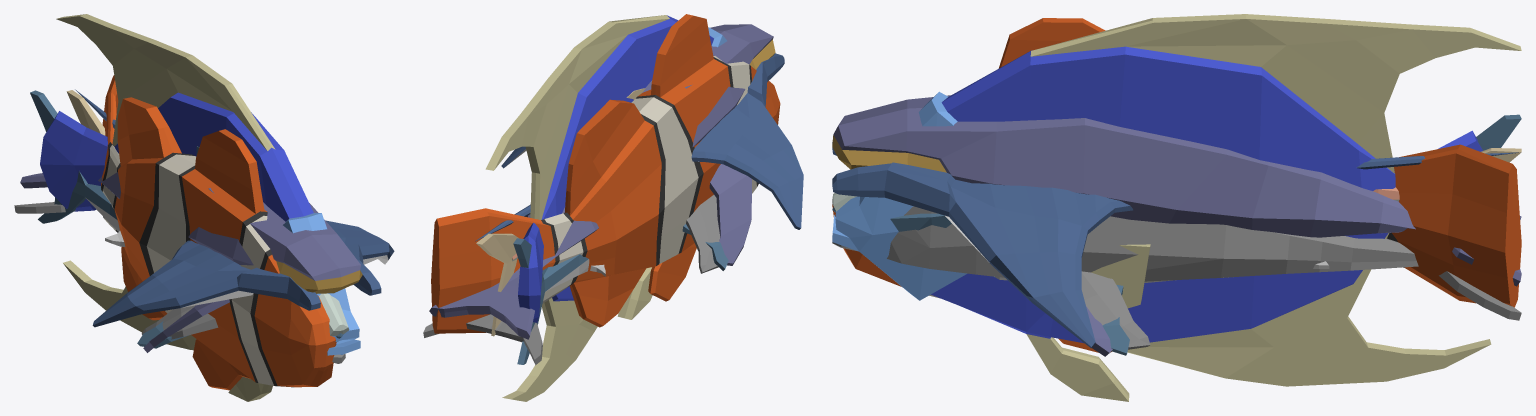
Rendered from quaternius-fish.glb.
The picture shows the model from 3 angles, left to right: view 1: azimuth 30°, elevation 25°; view 2: azimuth 150°, elevation 25°; view 3: azimuth 270°, elevation 25°; orthographic projection. The views are drawn at different scales.
Parts seen in each view (by area): view 1: fish3, fish2, manta, whale, shark, dolphin, fish1; view 2: fish3, fish2, whale, manta, dolphin, shark, fish1; view 3: fish2, whale, dolphin, manta, fish3, shark, fish1.
Boxes of the visible parts, <box> form: fish3: <box>101,75,336,390</box>; fish2: <box>40,14,360,401</box>; manta: <box>75,89,394,327</box>; whale: <box>20,172,362,352</box>; shark: <box>30,90,343,348</box>; dolphin: <box>14,202,345,363</box>; fish1: <box>66,90,349,341</box>; fish3: <box>431,14,780,333</box>; fish2: <box>485,15,726,401</box>; whale: <box>429,24,775,339</box>; manta: <box>475,53,803,241</box>; dolphin: <box>423,195,720,365</box>; shark: <box>513,224,728,364</box>; fish1: <box>476,88,645,336</box>; fish2: <box>832,14,1521,401</box>; whale: <box>832,95,1521,356</box>; dolphin: <box>832,206,1521,349</box>; manta: <box>832,142,1518,348</box>; fish3: <box>832,18,1521,352</box>; shark: <box>832,114,1521,355</box>; fish1: <box>832,148,1521,211</box>.
Size of the model in its own units: 0.6269 by 0.6101 by 1.
